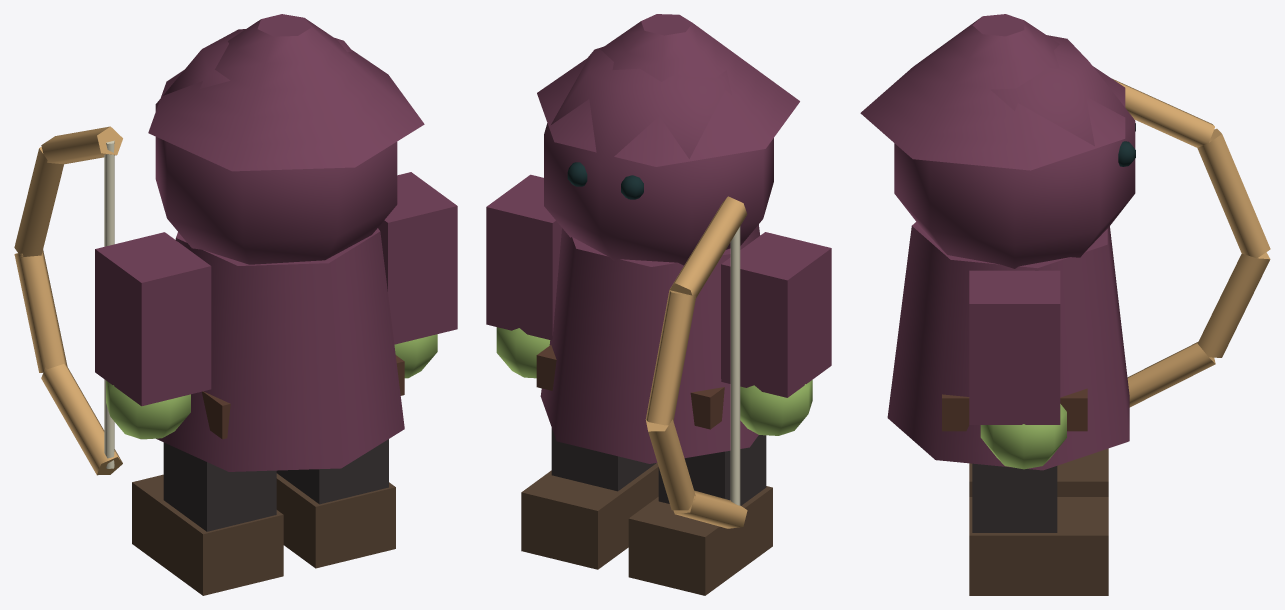
File: thorn_archer.glb
3 renders of one model, left to right at view 1: azimuth 30°, elevation 25°; view 2: azimuth 150°, elevation 25°; view 3: azimuth 270°, elevation 25°, orthographic. The views are drawn at different scales.
Visible parts, largest first — view 1: _MeshInstance3D_79, _MeshInstance3D_86, _MeshInstance3D_82, _MeshInstance3D_89, _MeshInstance3D_91, _MeshInstance3D_76, _MeshInstance3D_78, _MeshInstance3D_75, _MeshInstance3D_77, _MeshInstance3D_94, _MeshInstance3D_93, _MeshInstance3D_90 (+5 smaller); view 2: _MeshInstance3D_82, _MeshInstance3D_79, _MeshInstance3D_86, _MeshInstance3D_89, _MeshInstance3D_91, _MeshInstance3D_76, _MeshInstance3D_78, _MeshInstance3D_95, _MeshInstance3D_75, _MeshInstance3D_77, _MeshInstance3D_97, _MeshInstance3D_96 (+6 smaller); view 3: _MeshInstance3D_79, _MeshInstance3D_82, _MeshInstance3D_86, _MeshInstance3D_91, _MeshInstance3D_78, _MeshInstance3D_77, _MeshInstance3D_95, _MeshInstance3D_94, _MeshInstance3D_92, _MeshInstance3D_96, _MeshInstance3D_93, _MeshInstance3D_76 (+1 smaller).
Boxes of the visible parts, bbox=[...] form: _MeshInstance3D_79: bbox=[156, 228, 404, 471]; _MeshInstance3D_86: bbox=[148, 14, 424, 171]; _MeshInstance3D_82: bbox=[155, 29, 397, 264]; _MeshInstance3D_89: bbox=[95, 232, 211, 406]; _MeshInstance3D_91: bbox=[378, 172, 457, 344]; _MeshInstance3D_76: bbox=[132, 474, 283, 595]; _MeshInstance3D_78: bbox=[276, 473, 395, 568]; _MeshInstance3D_75: bbox=[163, 442, 276, 531]; _MeshInstance3D_77: bbox=[276, 439, 388, 504]; _MeshInstance3D_94: bbox=[14, 249, 67, 372]; _MeshInstance3D_93: bbox=[41, 364, 122, 475]; _MeshInstance3D_90: bbox=[106, 380, 190, 439]; _MeshInstance3D_82: bbox=[544, 46, 773, 265]; _MeshInstance3D_79: bbox=[540, 224, 760, 463]; _MeshInstance3D_86: bbox=[537, 14, 799, 166]; _MeshInstance3D_89: bbox=[721, 232, 831, 397]; _MeshInstance3D_91: bbox=[486, 174, 561, 340]; _MeshInstance3D_76: bbox=[628, 486, 772, 595]; _MeshInstance3D_78: bbox=[521, 463, 658, 569]; _MeshInstance3D_95: bbox=[645, 290, 696, 425]; _MeshInstance3D_75: bbox=[658, 435, 766, 505]; _MeshInstance3D_77: bbox=[551, 428, 656, 491]; _MeshInstance3D_97: bbox=[730, 226, 740, 505]; _MeshInstance3D_96: bbox=[669, 196, 747, 297]; _MeshInstance3D_79: bbox=[887, 222, 1129, 470]; _MeshInstance3D_82: bbox=[894, 35, 1135, 268]; _MeshInstance3D_86: bbox=[860, 14, 1125, 170]; _MeshInstance3D_91: bbox=[969, 270, 1060, 424]; _MeshInstance3D_78: bbox=[969, 497, 1108, 595]; _MeshInstance3D_77: bbox=[972, 463, 1057, 532]; _MeshInstance3D_95: bbox=[1197, 128, 1270, 258]; _MeshInstance3D_94: bbox=[1197, 252, 1270, 357]; _MeshInstance3D_92: bbox=[980, 404, 1066, 469]; _MeshInstance3D_96: bbox=[1112, 78, 1214, 147]; _MeshInstance3D_93: bbox=[1127, 342, 1215, 407]; _MeshInstance3D_76: bbox=[969, 448, 1108, 496].
Bounding box in the file's own units: 0.6027 × 0.955 × 0.6772.
